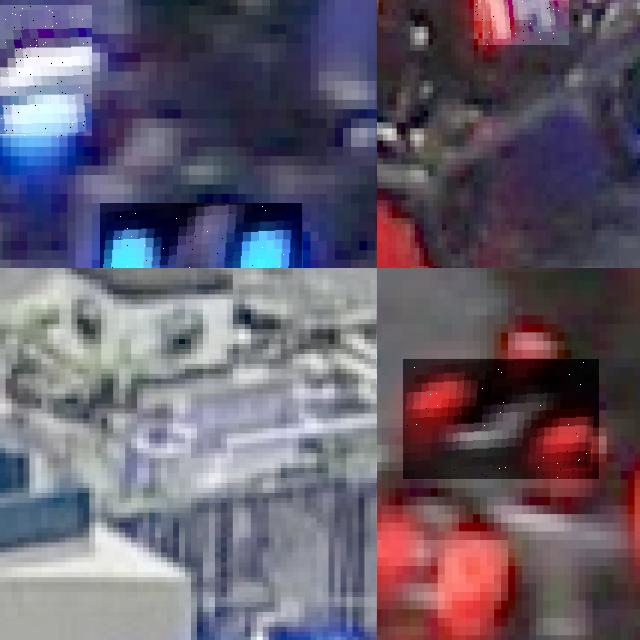B4: (99, 203, 302, 268), (0, 5, 91, 137)
R3: (403, 359, 599, 479), (377, 496, 500, 626)
R4: (473, 0, 569, 44)
